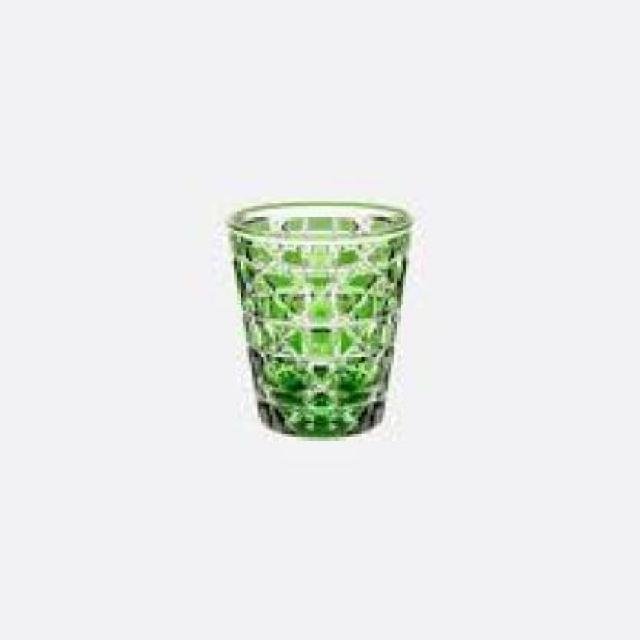kaca: (225, 200, 409, 434)
